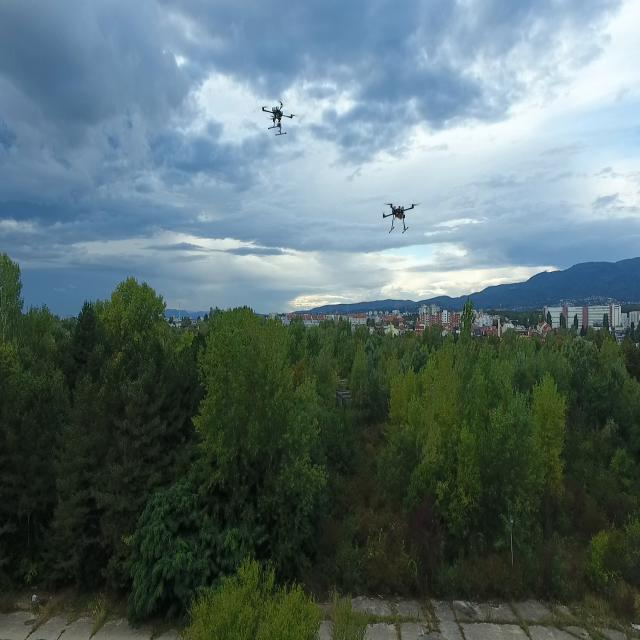UAV: (257, 93, 301, 139), (374, 194, 422, 235)
